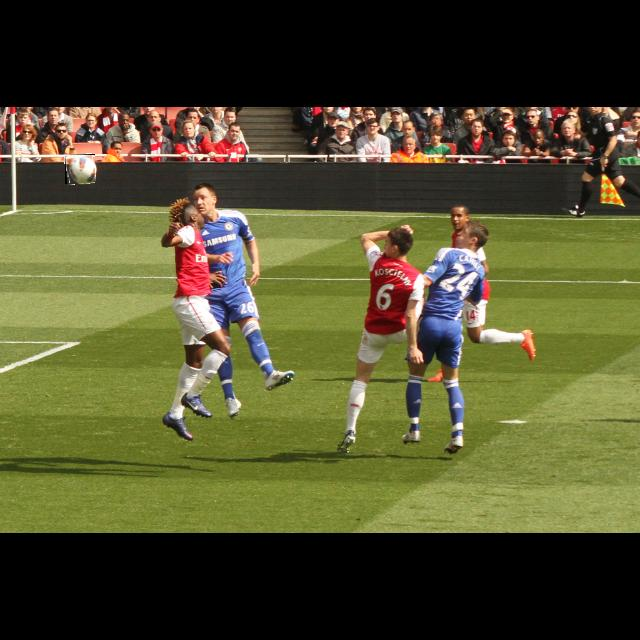Football: (65, 154, 95, 184)
